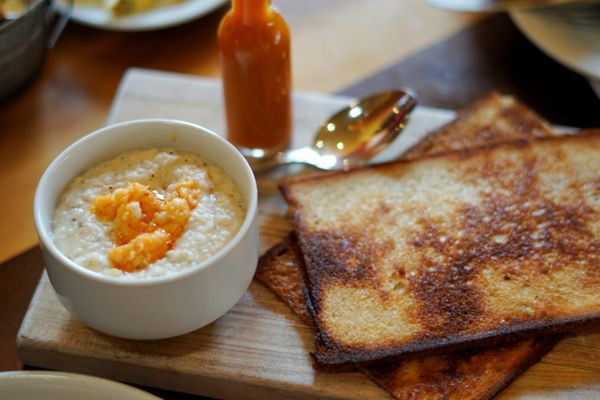pizza: (217, 0, 294, 160)
salad: (245, 87, 419, 177)
soup: (280, 88, 600, 364)
sushi: (33, 118, 261, 340), (0, 0, 62, 108)
